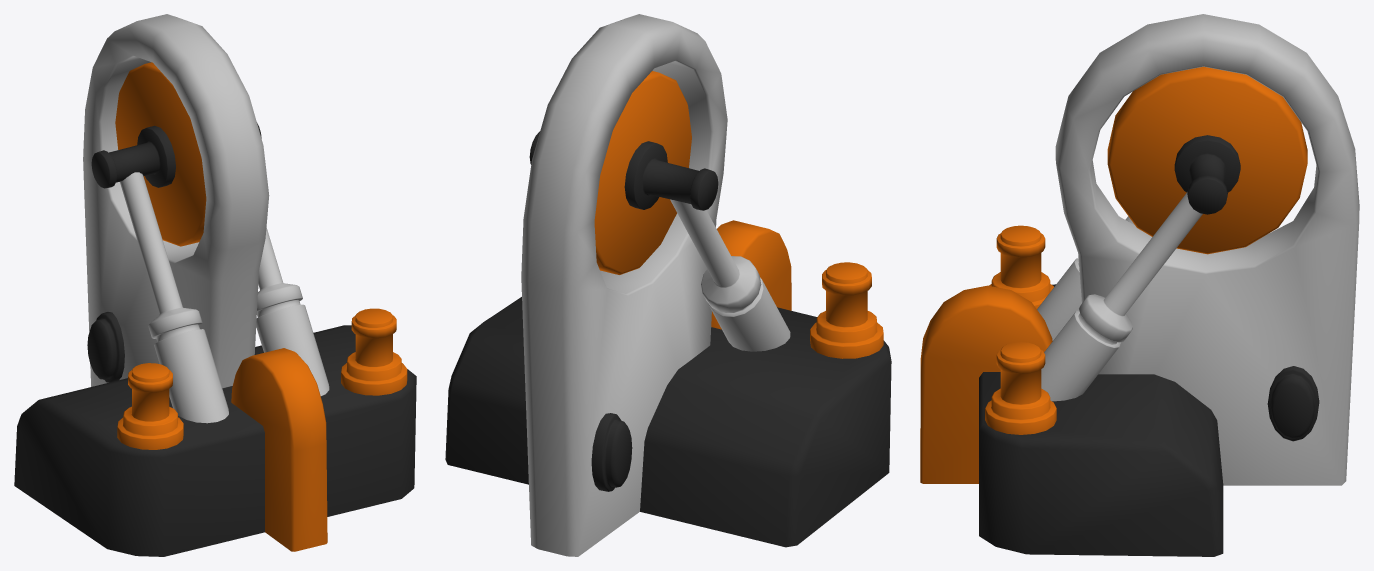
3 views of the same model, side by side, from view 1: azimuth 30°, elevation 25°; view 2: azimuth 150°, elevation 25°; view 3: azimuth 270°, elevation 25° (orthographic). The views are drawn at different scales.
Parts seen in each view (by area): view 1: Geothermal_generator.003; view 2: Geothermal_generator.003; view 3: Geothermal_generator.003.
Boxes of the visible parts, x1=… form: Geothermal_generator.003: x1=14, y1=14, x2=416, y2=556; Geothermal_generator.003: x1=445, y1=14, x2=891, y2=556; Geothermal_generator.003: x1=920, y1=14, x2=1359, y2=556.
Bounding box in the file's own units: 4.17 × 5.33 × 4.68.
